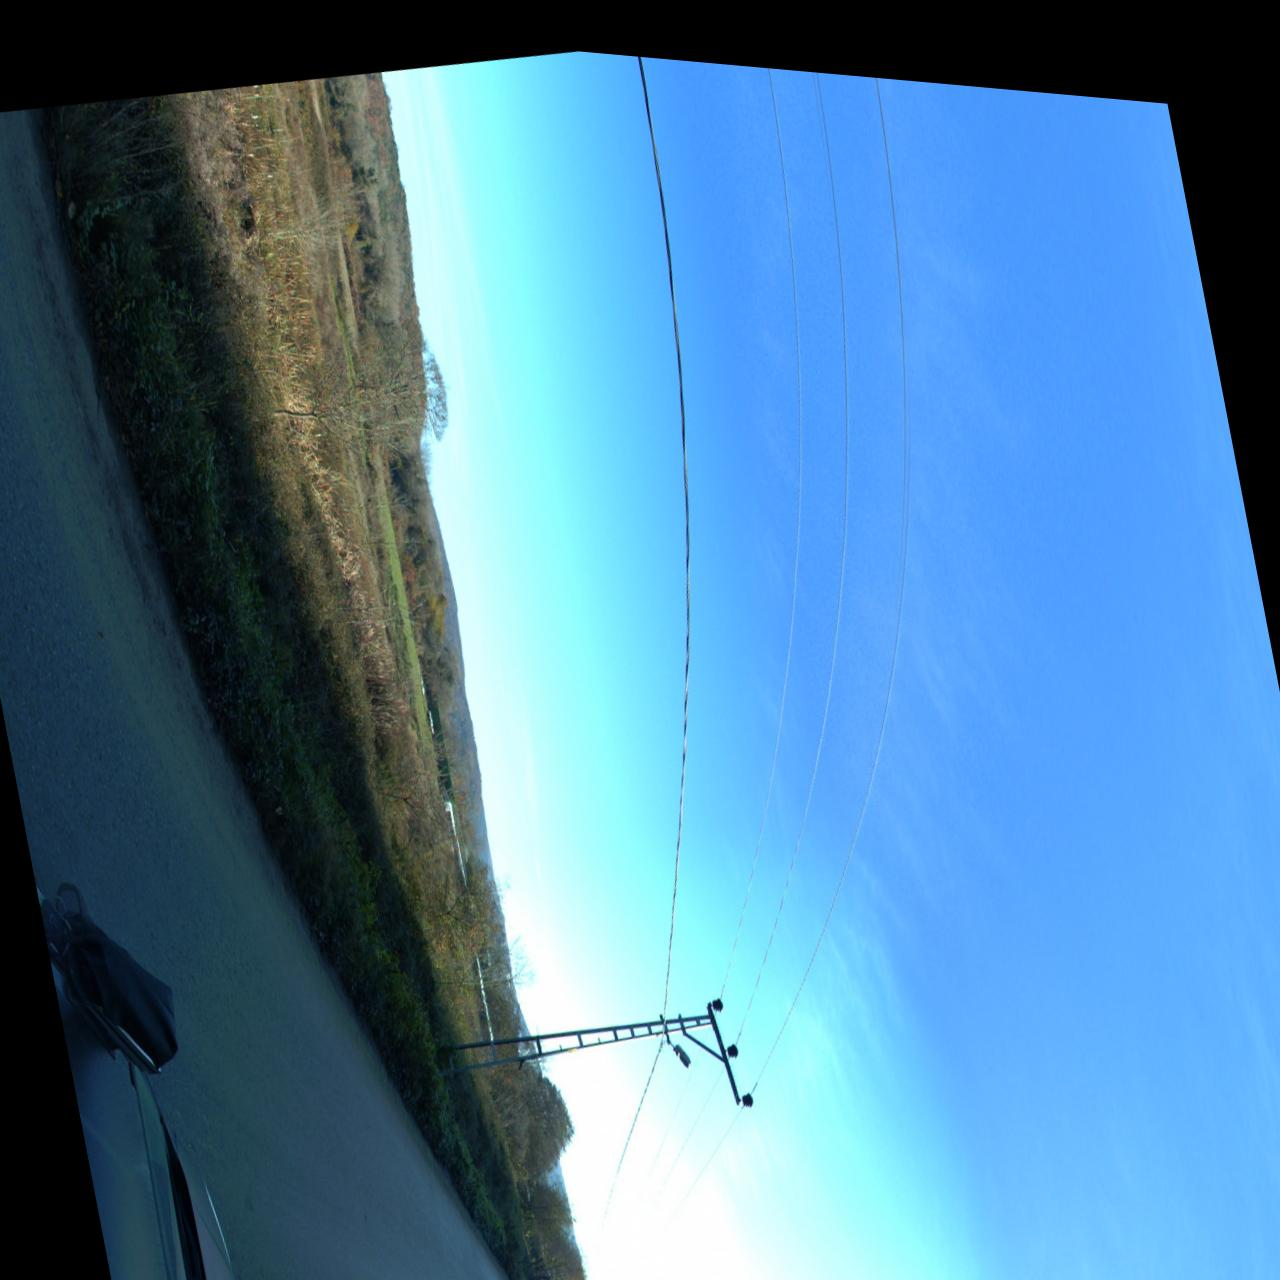Utility Pole Information Plate: (567, 1037, 577, 1042)
